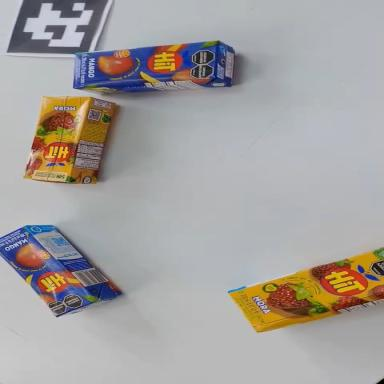HIT-MANGO: (0, 205, 123, 339), (72, 40, 236, 95)
HIT-MORA: (228, 248, 384, 340), (24, 87, 116, 195)
cara_F: (228, 247, 384, 337), (0, 222, 97, 330), (19, 84, 90, 189), (70, 40, 220, 88)
